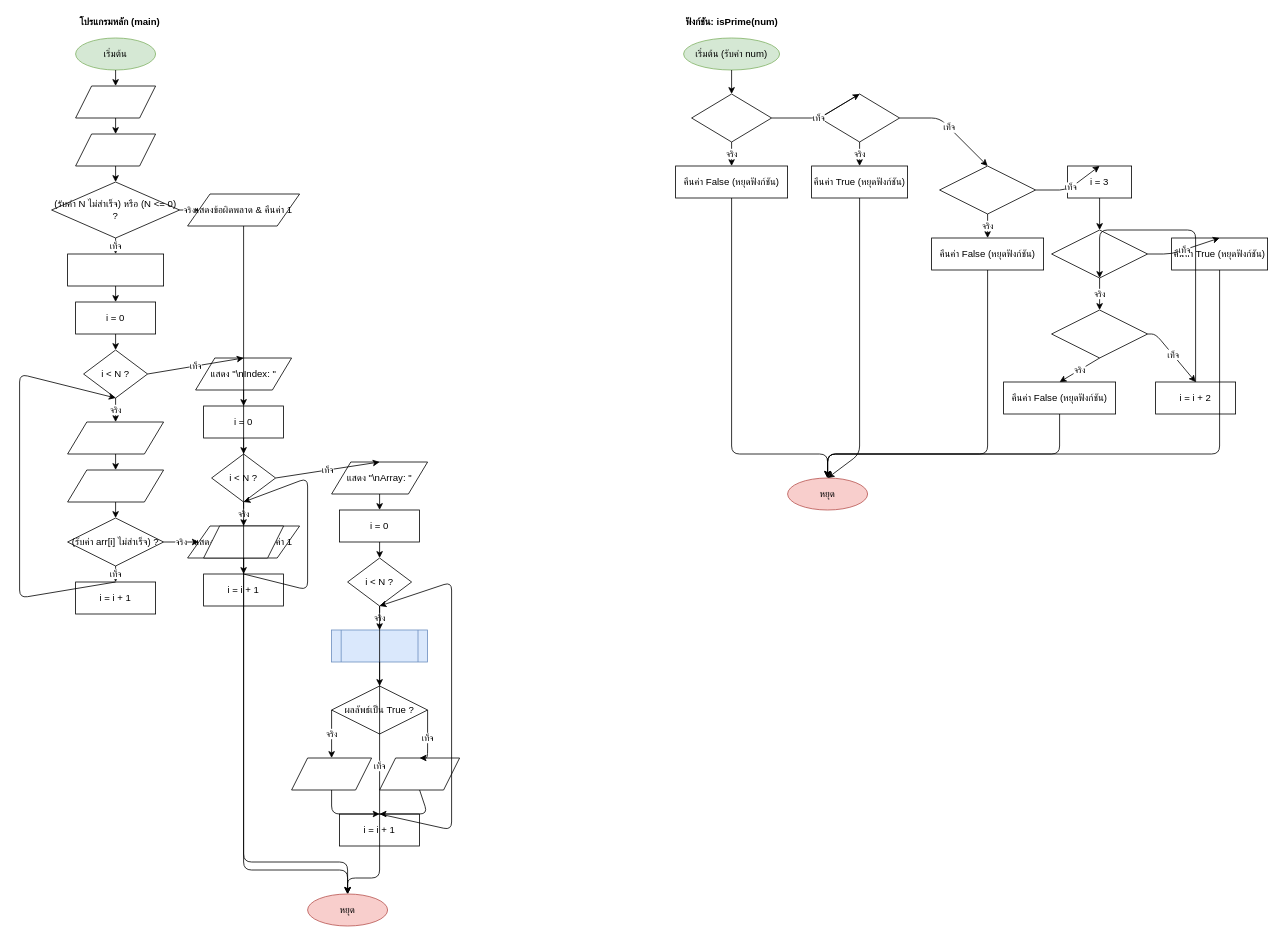
Image size: 1282x940. Some labels were removed from this diagram. Each missing label, with the box of its shape:
i <= sqrt(num) ?: (1051, 229, 1148, 278)
num % 2 == 0 ?: (939, 165, 1036, 214)
num % i == 0 ?: (1051, 309, 1148, 358)
num <= 1 ?: (691, 93, 772, 142)
num == 2 ?: (819, 93, 900, 142)
ประกาศตัวแปรอาเรย์ arr[N]: (67, 253, 164, 286)
รับค่า arr[i]: (67, 469, 164, 502)
รับค่า N (ขนาดอาเรย์): (75, 133, 156, 166)
เรียกใช้ isPrime(arr[i]): (331, 629, 428, 662)
แสดง "Enter N :": (75, 85, 156, 118)
แสดง "Enter value[i] :": (67, 421, 164, 454)
แสดงค่า "#": (379, 757, 460, 790)
แสดงค่า arr[i]: (291, 757, 372, 790)
แสดงค่า i: (203, 525, 284, 558)
